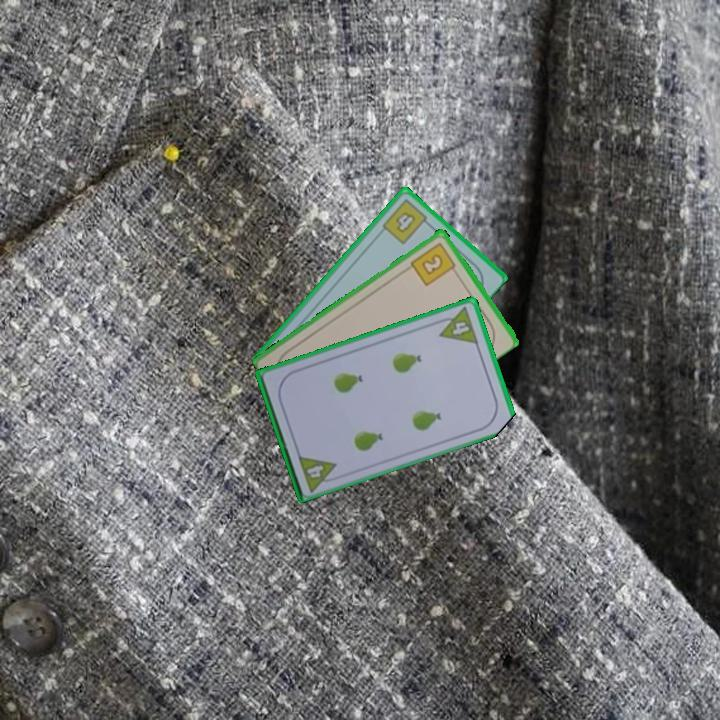2b: (407, 239, 459, 288)
4b: (378, 195, 434, 247)
4p: (432, 303, 481, 347), (294, 451, 343, 494)
